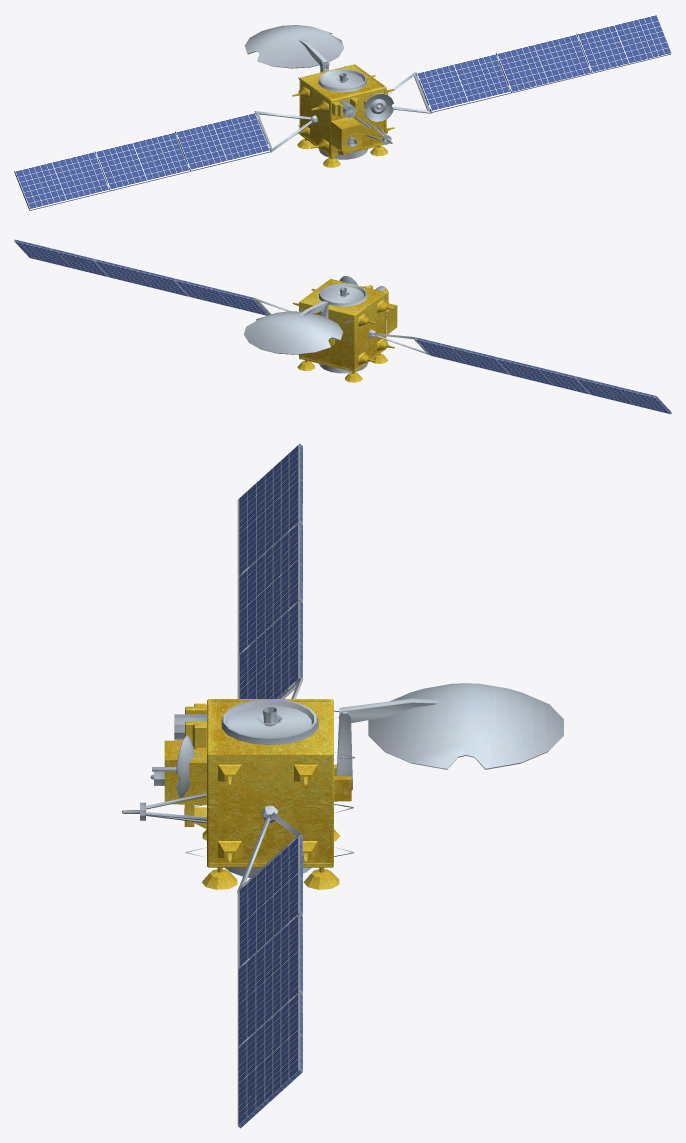
The model's file is WeiXing1.gltf.
3 renders of one model, top to bottom at view 1: azimuth 30°, elevation 25°; view 2: azimuth 150°, elevation 25°; view 3: azimuth 270°, elevation 25°, orthographic. The views are drawn at different scales.
Visible parts, largest first — view 1: WeiXing102, WeiXing101, WeiXing103; view 2: WeiXing102, WeiXing101, WeiXing103; view 3: WeiXing102, WeiXing101, WeiXing103.
Part boxes in pixels (<box>): WeiXing102: <box>14,14,671,210</box>; WeiXing101: <box>95,25,591,187</box>; WeiXing103: <box>292,64,394,167</box>; WeiXing102: <box>14,239,671,414</box>; WeiXing101: <box>95,262,590,393</box>; WeiXing103: <box>292,279,397,382</box>; WeiXing102: <box>237,443,302,1128</box>; WeiXing101: <box>122,525,563,1043</box>; WeiXing103: <box>164,699,351,889</box>.
Bounding box in the file's own units: 3.03 × 0.3778 × 0.9045.
3 materials, 3 textured.
